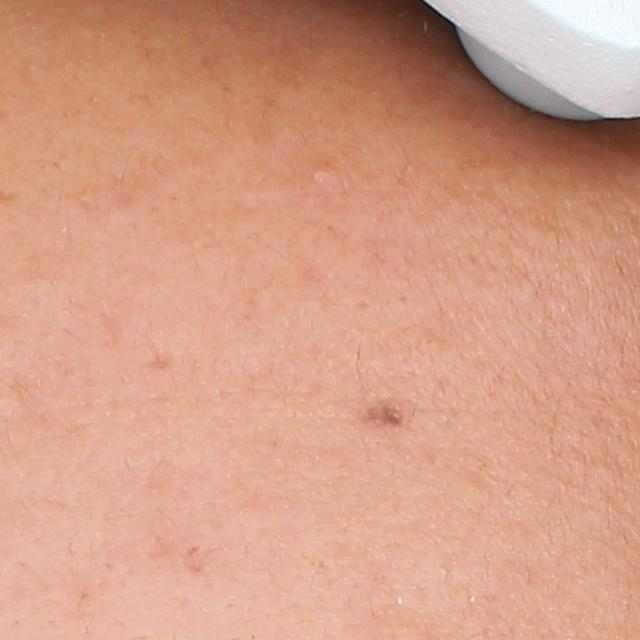comedo: (312, 164, 333, 186)
nevus: (364, 396, 411, 429)
